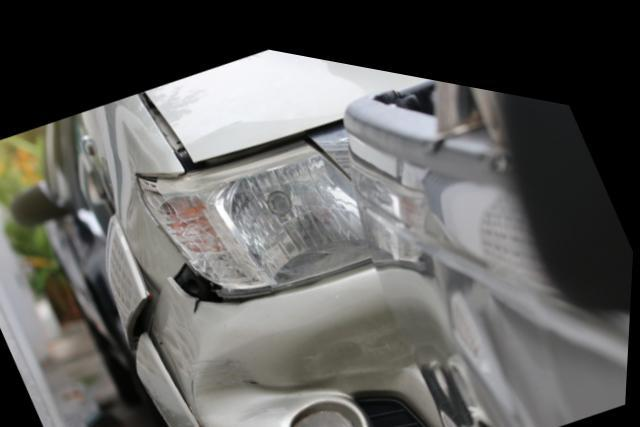crack: (196, 290, 203, 305)
dent: (196, 314, 319, 427)
lamp broken: (138, 128, 374, 291)
